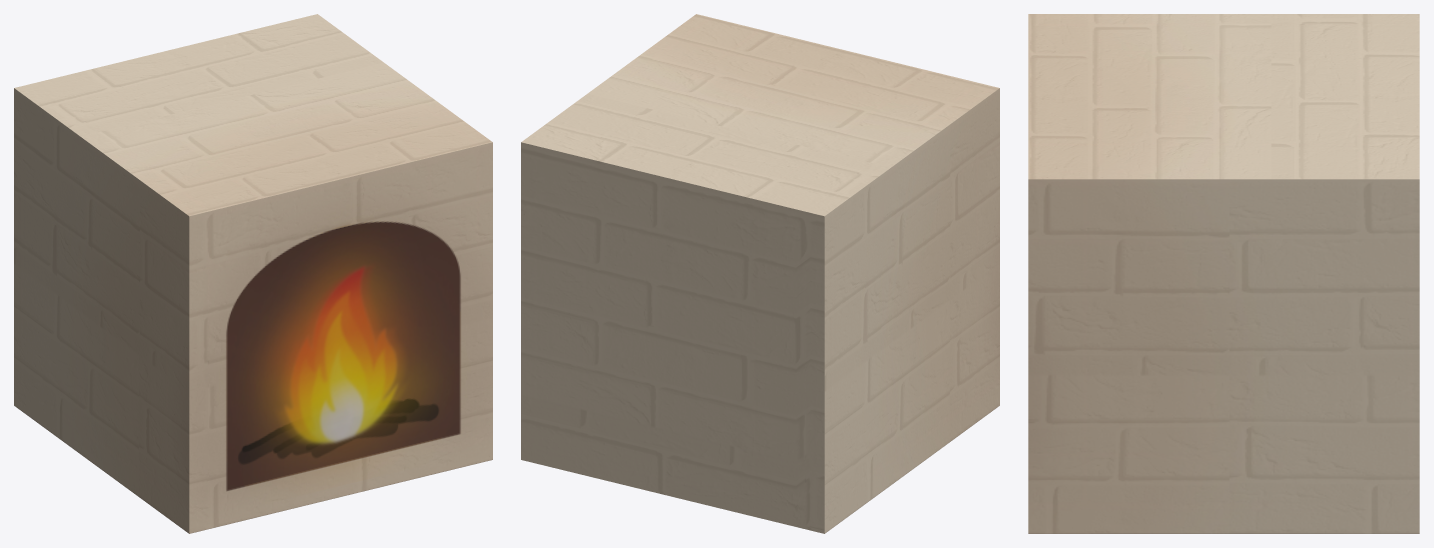
File: tao.fbx
3 renders of one model, left to right at view 1: azimuth 30°, elevation 25°; view 2: azimuth 150°, elevation 25°; view 3: azimuth 270°, elevation 25°, orthographic. The views are drawn at different scales.
Visible parts, largest first — view 1: pCube1; view 2: pCube1; view 3: pCube1.
Boxes of the visible parts, x1,y1,x2,y2 form: pCube1: [14, 14, 492, 533]; pCube1: [521, 14, 999, 533]; pCube1: [1028, 14, 1419, 533].
Bounding box in the file's own units: 1 × 1 × 1.
